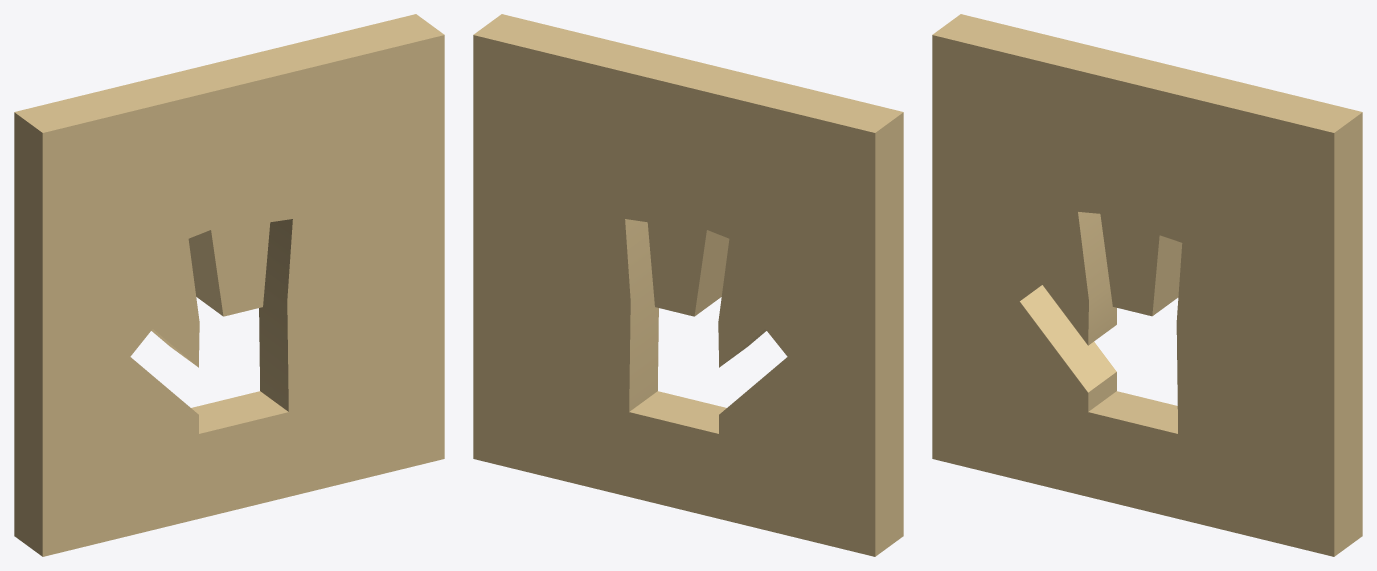
The model's file is door_2.FBX.
3 renders of one model, left to right at view 1: azimuth 30°, elevation 25°; view 2: azimuth 150°, elevation 25°; view 3: azimuth 330°, elevation 25°, orthographic.
Visible parts, largest first — view 1: Box016; view 2: Box016; view 3: Box016.
Part boxes in pixels (<box>): Box016: <box>14,14,444,556</box>; Box016: <box>473,14,903,556</box>; Box016: <box>932,14,1362,556</box>.
Size of the model in its own units: 160 by 161 by 19.76.
